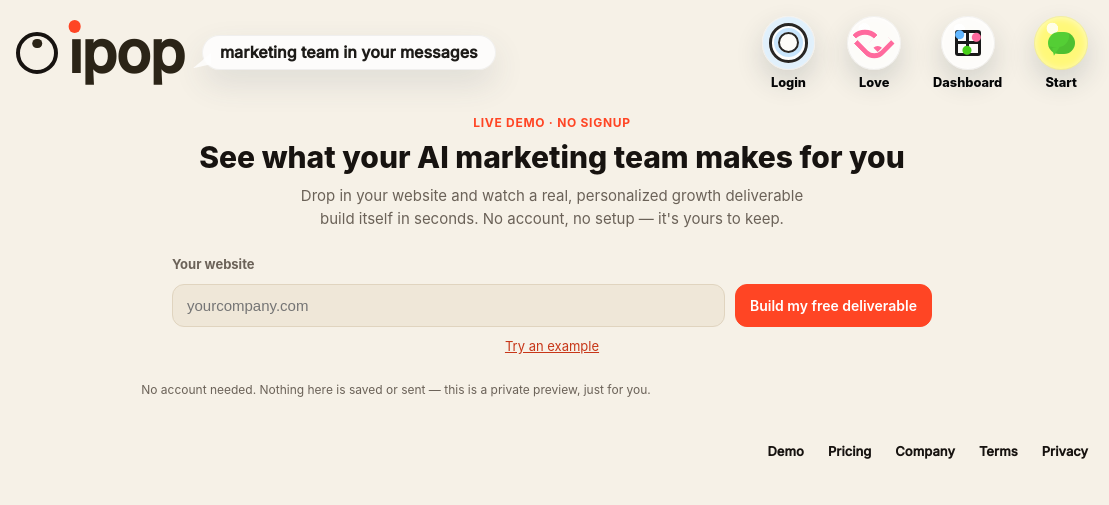
it: DemoSandbox (#610) › degrades honestly to an error and returns to the form when the build fails
This screenshot has width=1109, height=505.
Step 1. Type "not a url" into the field labelled "Your website" → (448, 306), box [172, 284, 725, 327]
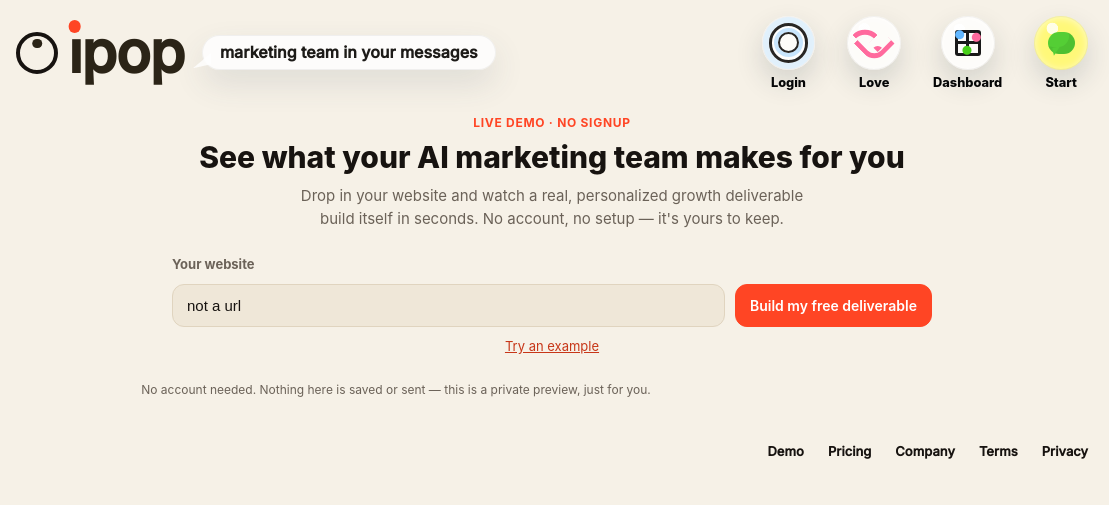
Step 2. Click the button "Build my free deliverable" → (834, 306), box [735, 284, 932, 327]
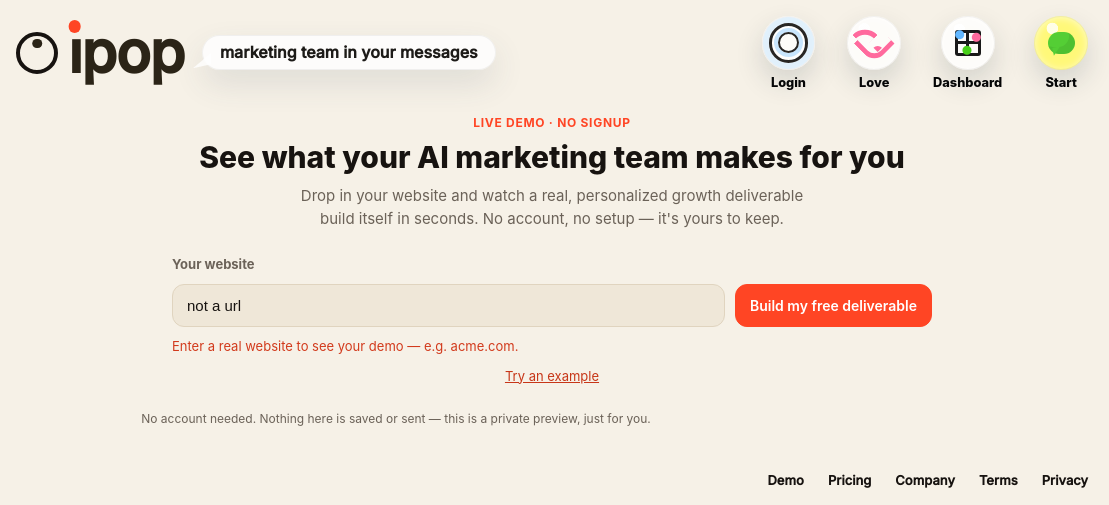
Expected: the field labelled "Your website" is shown, [172, 284, 725, 327]
Expected: the message "Enter a real website to see your demo — e.g. acme.com." is shown, [172, 337, 518, 356]
